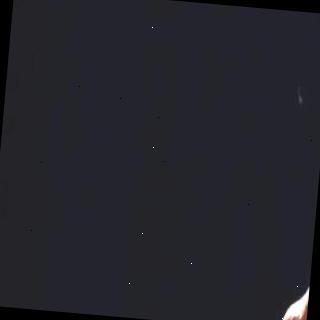smoke: (308, 12, 320, 33)
